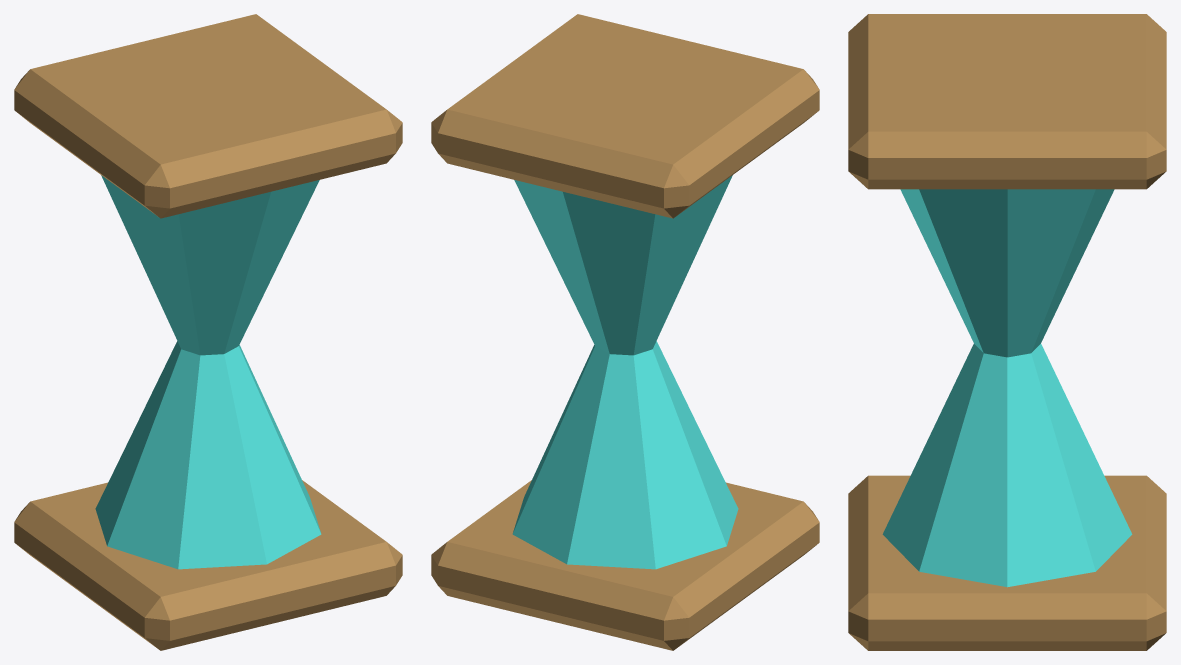
File: SH10_TimeFreeze.fbx
3 views of the same model, side by side, from view 1: azimuth 30°, elevation 25°; view 2: azimuth 150°, elevation 25°; view 3: azimuth 270°, elevation 25° (orthographic). The views are drawn at different scales.
Parts seen in each view (by area): view 1: SH10_TimeFreeze; view 2: SH10_TimeFreeze; view 3: SH10_TimeFreeze.
Part boxes in pixels (x1,y1,x2,y2): SH10_TimeFreeze: (14,14,402,650); SH10_TimeFreeze: (431,14,819,650); SH10_TimeFreeze: (848,14,1166,650).
Bounding box in the file's own units: 40 × 72 × 40.
